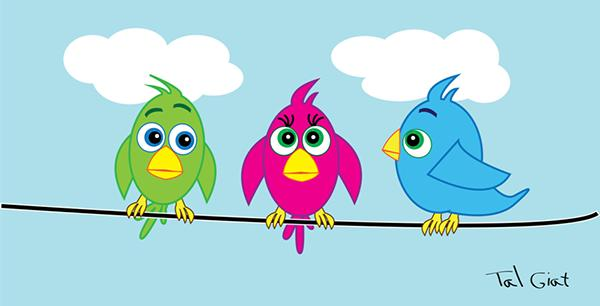bird: (383, 74, 533, 240), (240, 75, 366, 260), (114, 72, 222, 244)
